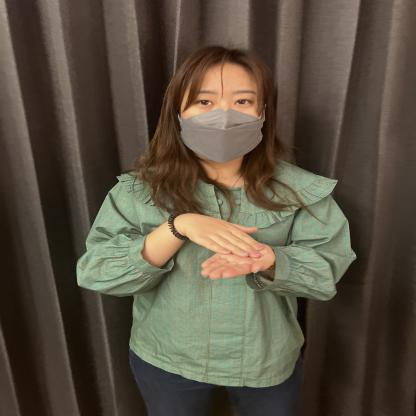Love: (152, 194, 303, 327)
